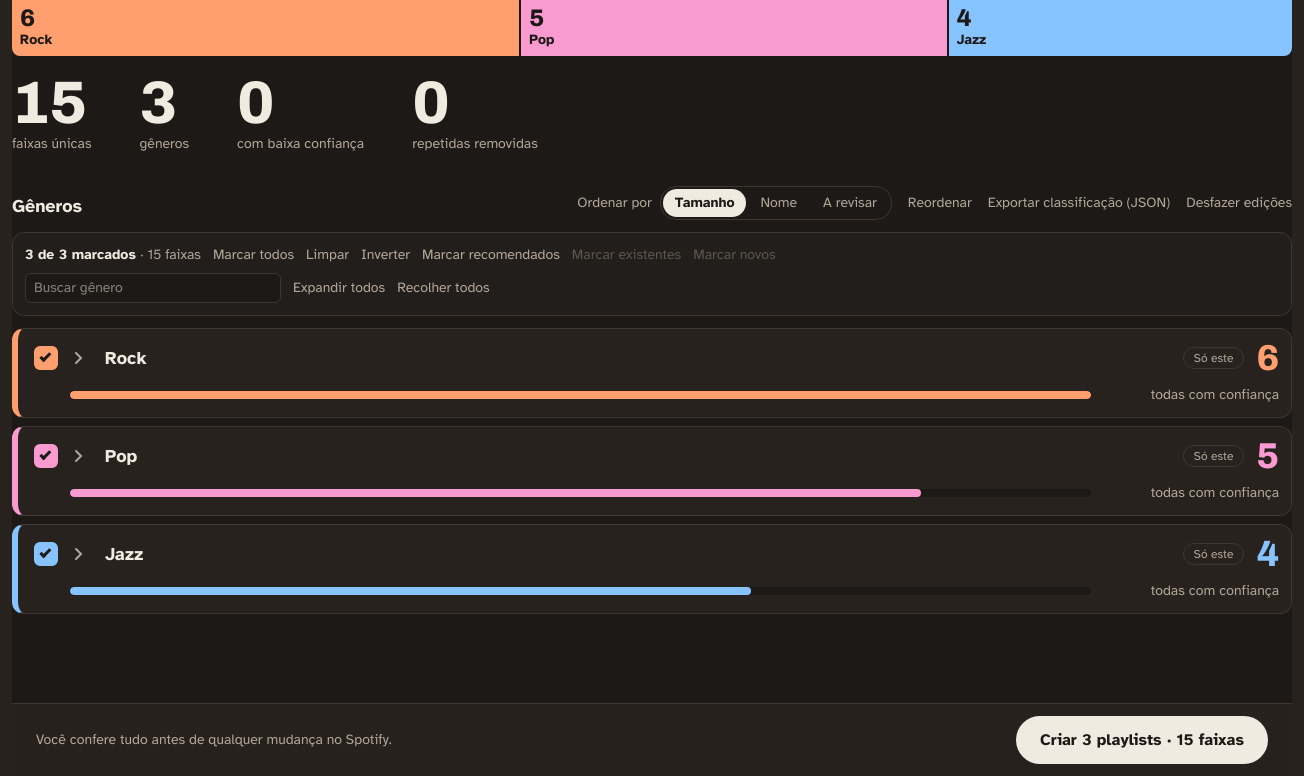
Test: empty groups › a group emptied by moving its tracks disappears and leaves the footer
The width and height of the screenshot is (1304, 776).
Expected: the button "Criar 3 playlists · 15 faixas" is shown, [1016, 716, 1268, 764]
Click the button "Expandir todos".
click(339, 288)  # box [293, 278, 385, 298]
(page scrolled)
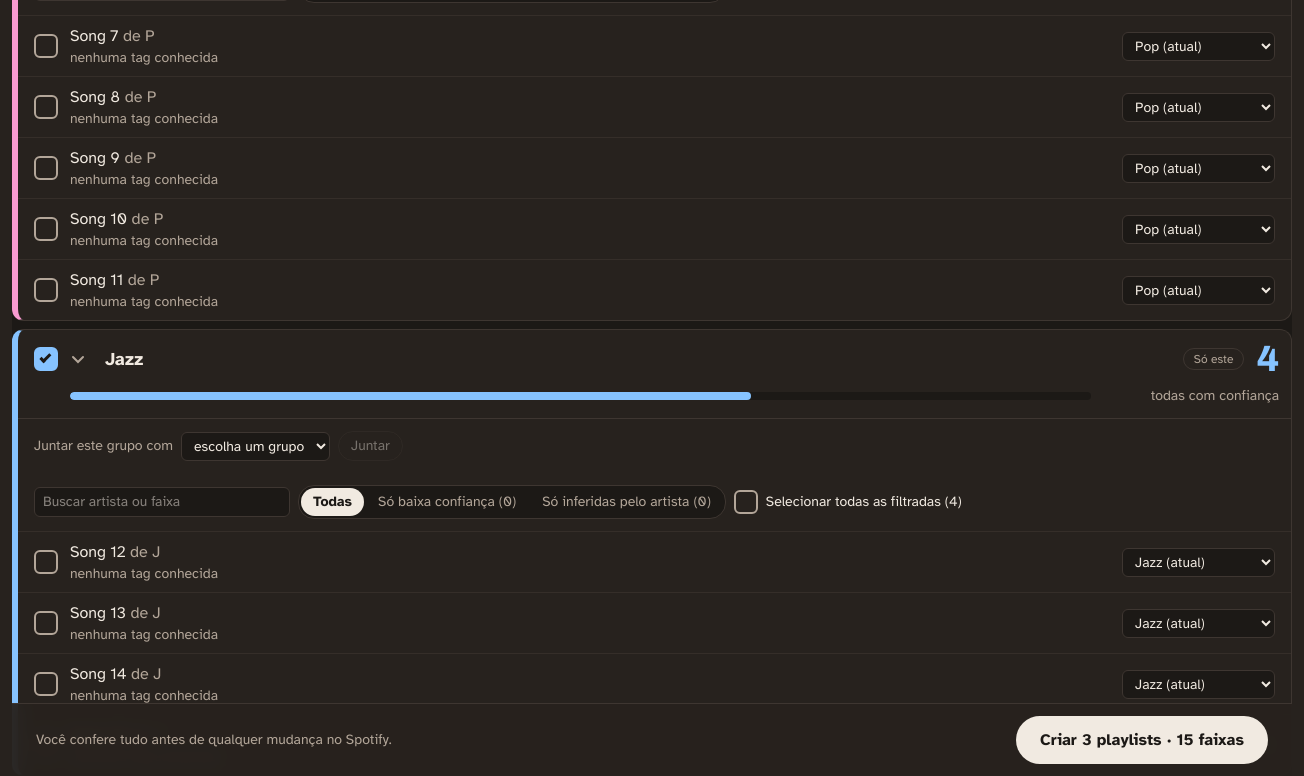
Click the checkbox labelled "Selecionar todas as filtradas (4)".
click(746, 502)  # box [734, 490, 758, 514]
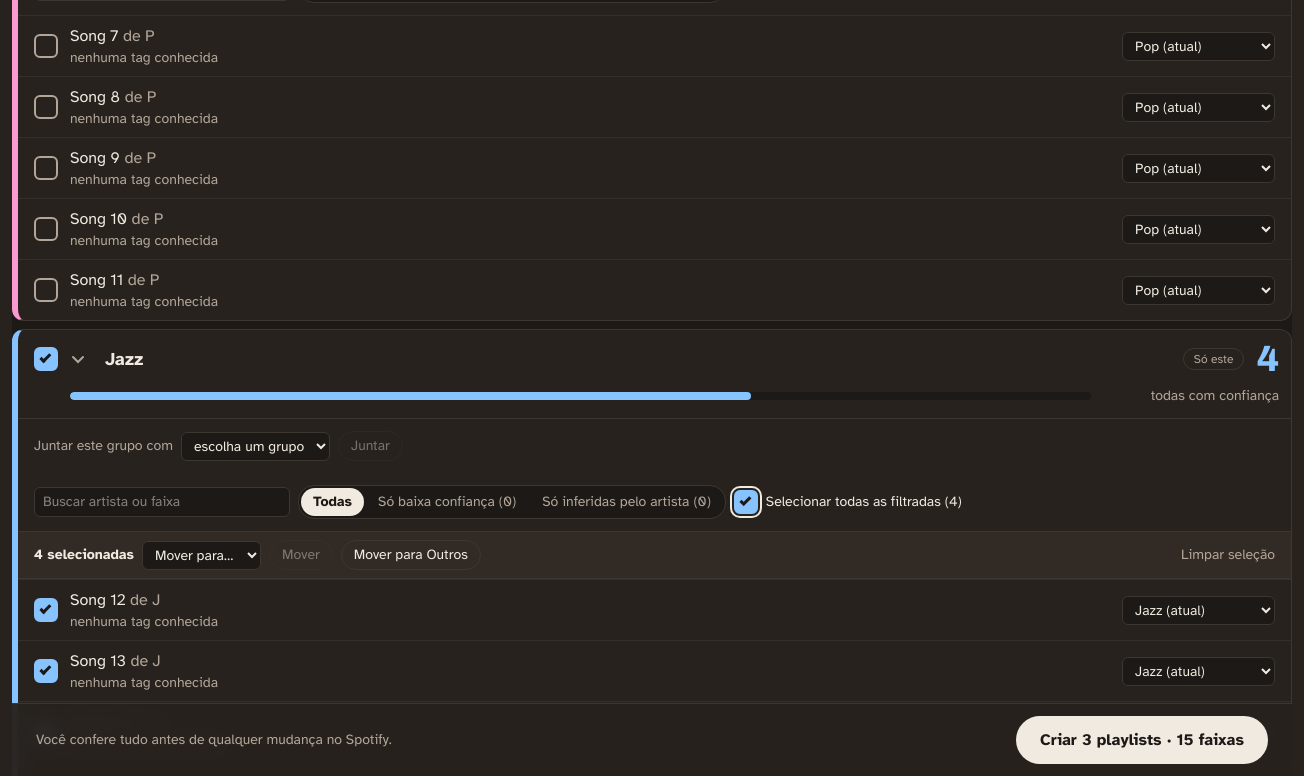
Click the button "Mover para Outros".
click(411, 555)  # box [341, 540, 481, 570]
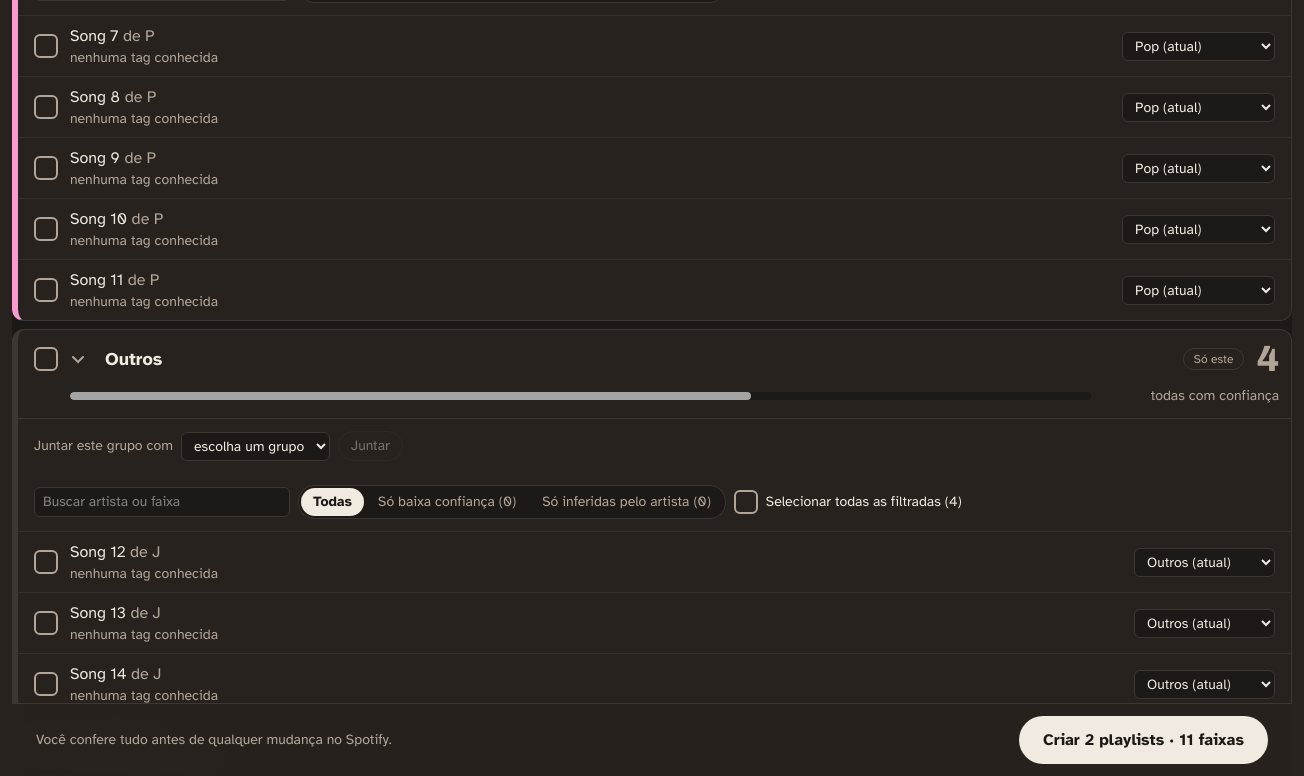
Now the button "Criar 2 playlists · 11 faixas" is shown, box [1019, 716, 1268, 764]
